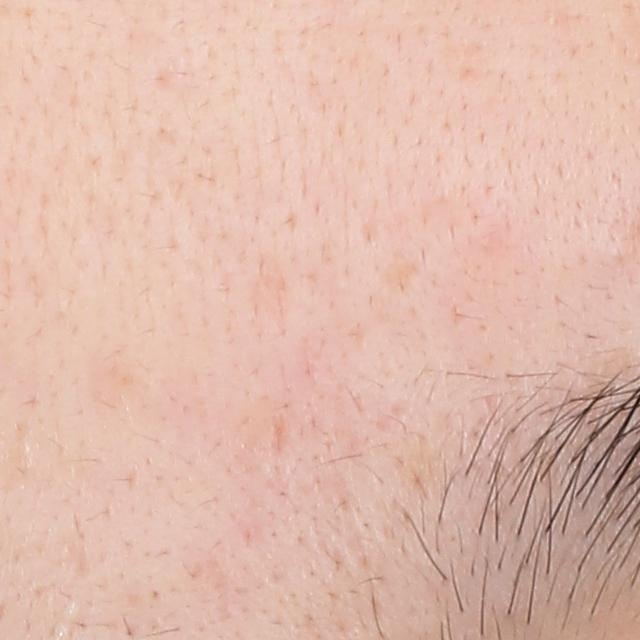atrophic_scar: (86, 362, 162, 417), (374, 249, 424, 294), (271, 411, 290, 463)
